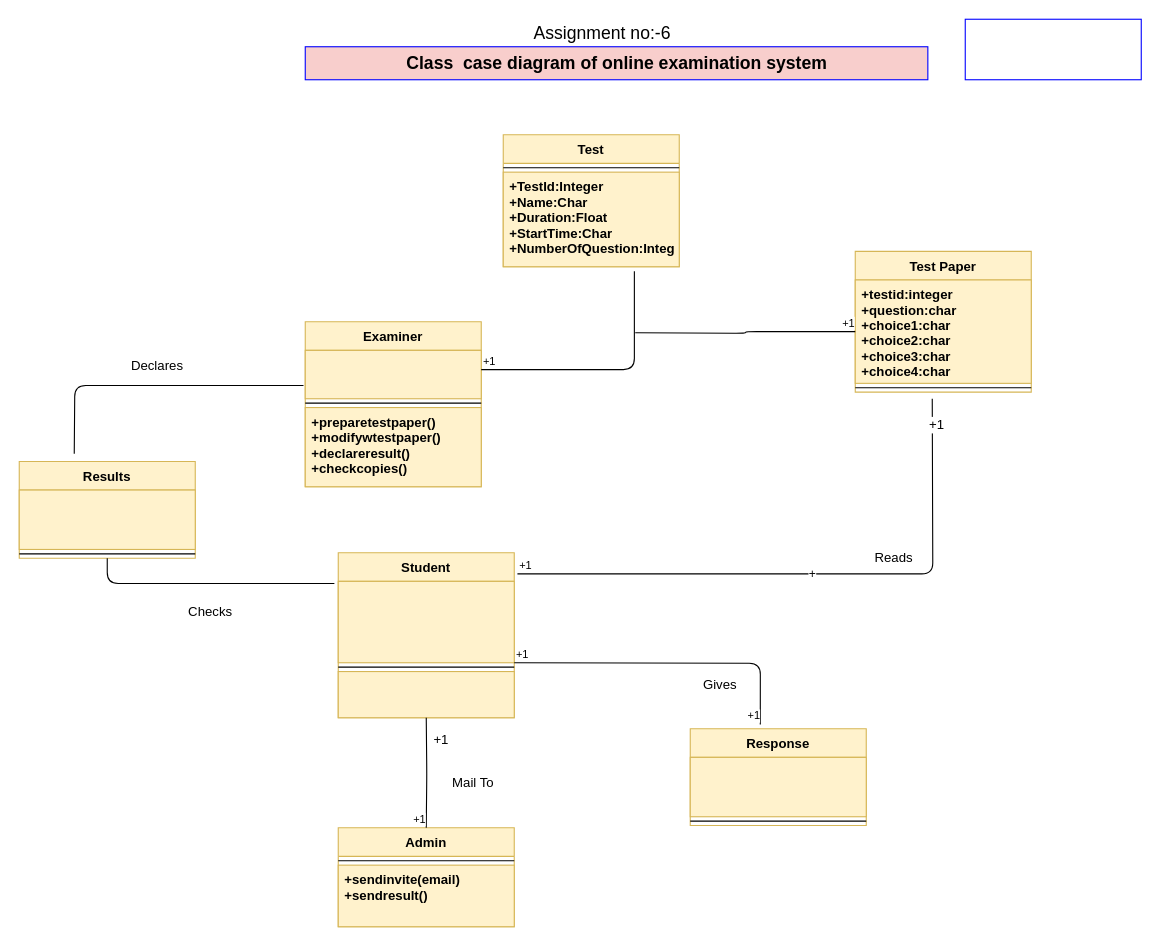
The diagram is 1161 pixels wide and 949 high, and some of its shapes have lost their labels. The centre of each missing label's shape, as x and y in pixels:
"+GiveExam() +CheckResult()" goes at (x=425, y=694).
"+id:integer +name:char" goes at (x=392, y=374).
"+id:integer +name:char: +address:char +contactno:integer" goes at (x=425, y=621).
"+studentid:integer +marks:float +grade:char" goes at (x=106, y=519).
"+studentid:integer +questionid:integer +selectedchoice:char" goes at (x=777, y=786).
"Name:shambhu shah roll no:18cse195" goes at (x=1052, y=49).
